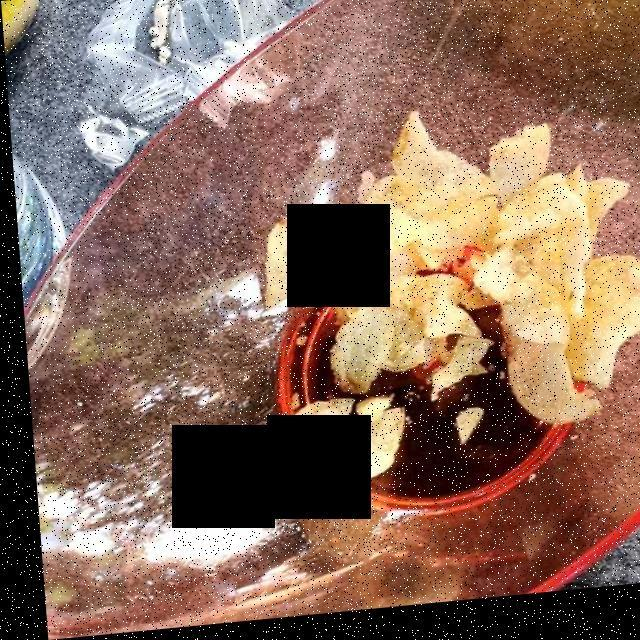crisps: (261, 134, 640, 505)
